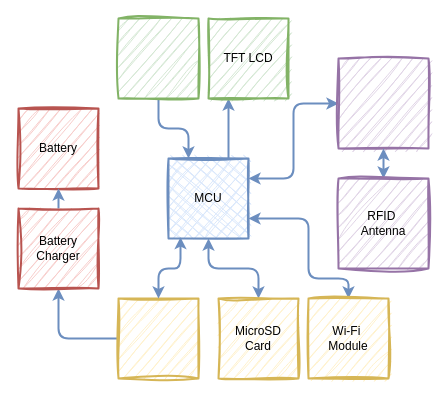
Some shapes in this 446 by 396 pixel diagram are drawn without their labels. Here are the shapes that lost their labels. From the top down, the box of each, then its label:
(117, 17, 199, 99): Keyboard
(337, 57, 429, 149): RFID Reader / Writer
(117, 297, 199, 379): USB
